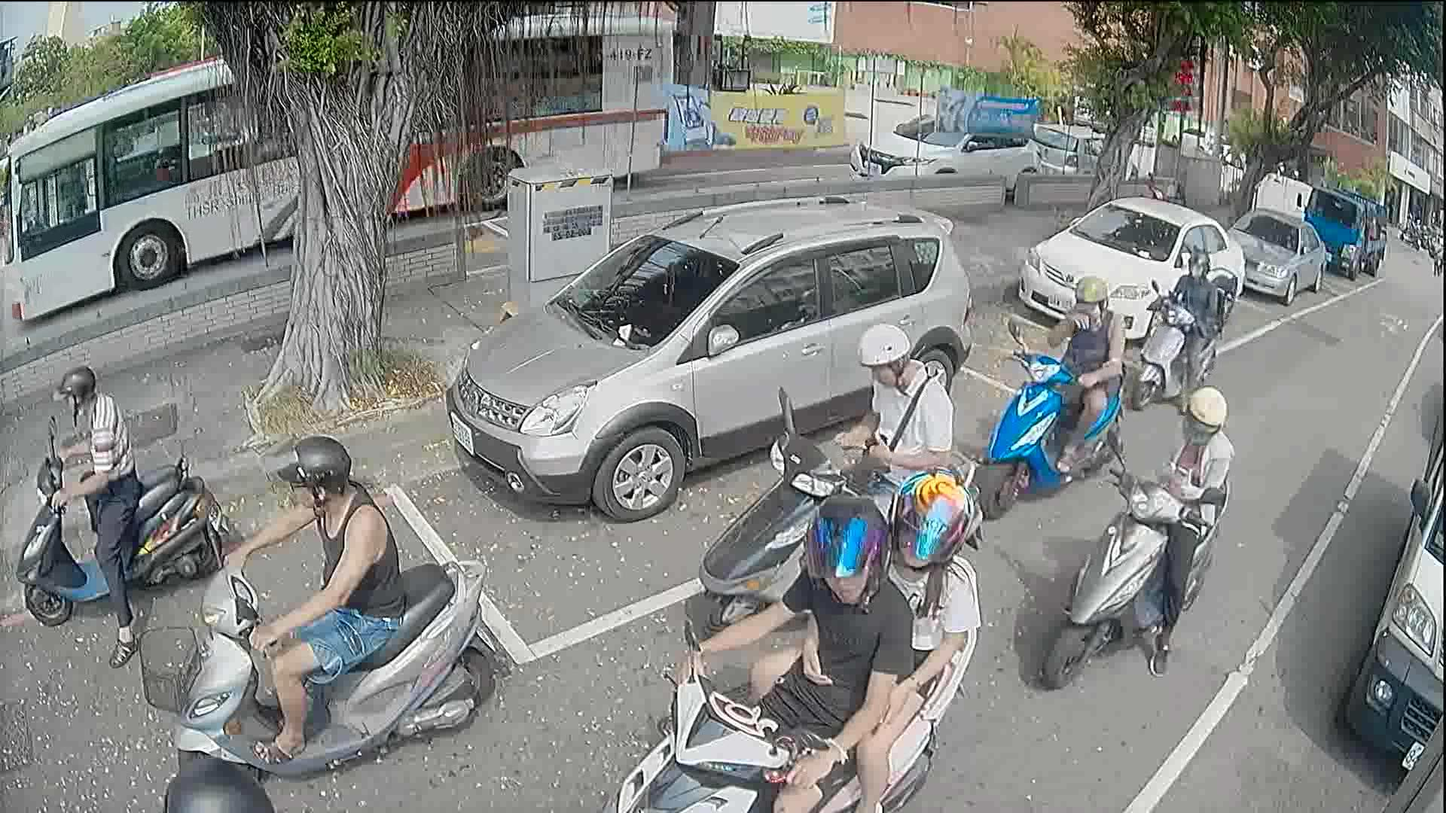person: (755, 460, 989, 808), (660, 492, 911, 812), (214, 423, 403, 769), (40, 355, 148, 672), (1130, 376, 1228, 676), (1022, 263, 1118, 474), (855, 319, 956, 508), (1161, 245, 1227, 389), (164, 741, 274, 811)
